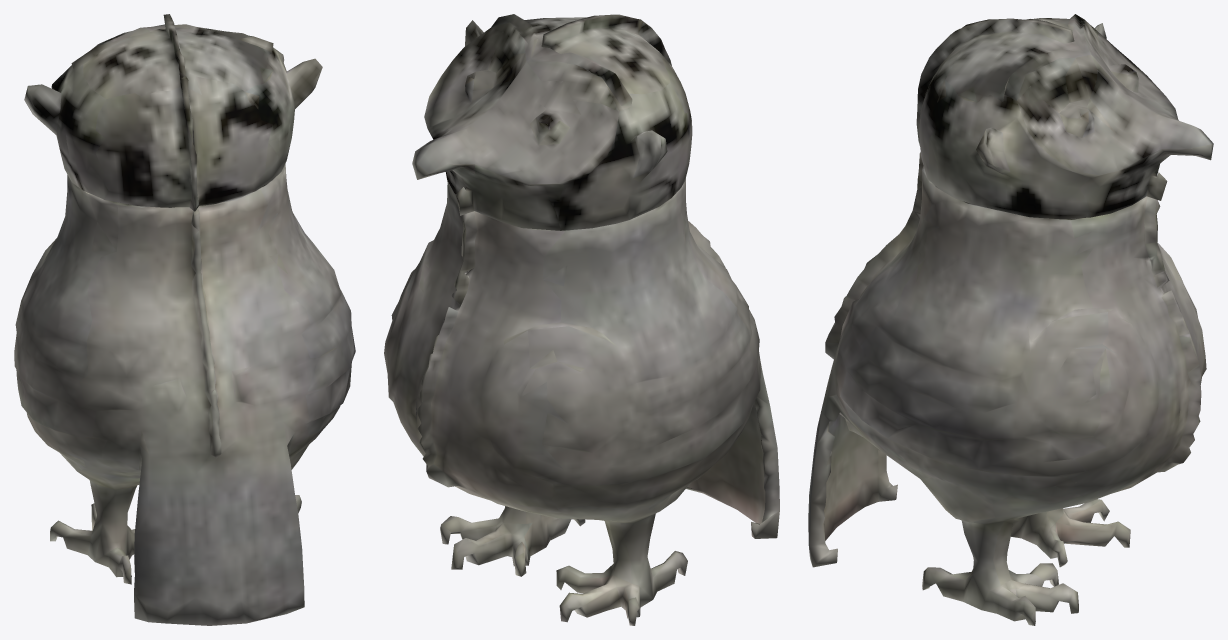
Rendered from owl-zun.glb.
3 renders of one model, left to right at view 1: azimuth 30°, elevation 25°; view 2: azimuth 150°, elevation 25°; view 3: azimuth 270°, elevation 25°, orthographic. The views are drawn at different scales.
Visible parts, largest first — view 1: low; view 2: low; view 3: low.
Part boxes in pixels (box(x1,y1,x2,y2)): low: box(14, 14, 355, 625); low: box(384, 14, 779, 625); low: box(808, 14, 1213, 625).
Bounding box in the file's own units: 0.5366 × 0.8976 × 0.6057.
Materials: 1 (1 with a texture image).
